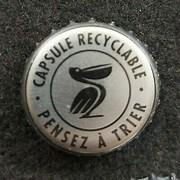metal: (23, 21, 161, 156)
